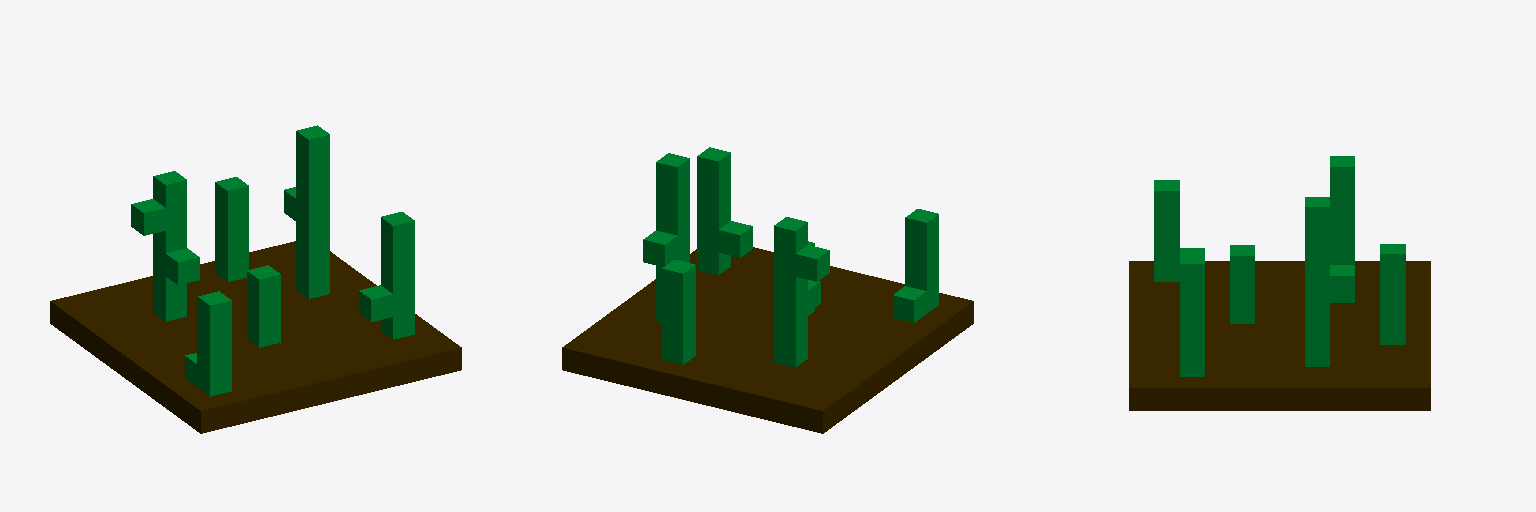
3 renders of one model, left to right at view 1: azimuth 30°, elevation 25°; view 2: azimuth 150°, elevation 25°; view 3: azimuth 270°, elevation 25°, orthographic.
Parts seen in each view (by area): view 1: Matrix_6; view 2: Matrix_6; view 3: Matrix_6.
Part boxes in pixels (left/top/right/bottom): Matrix_6: left=50, top=125, right=461, bottom=433; Matrix_6: left=562, top=147, right=973, bottom=433; Matrix_6: left=1129, top=156, right=1430, bottom=410.
Size of the model in its own units: 12 by 8 by 12.
Materials: 1 (1 with a texture image).